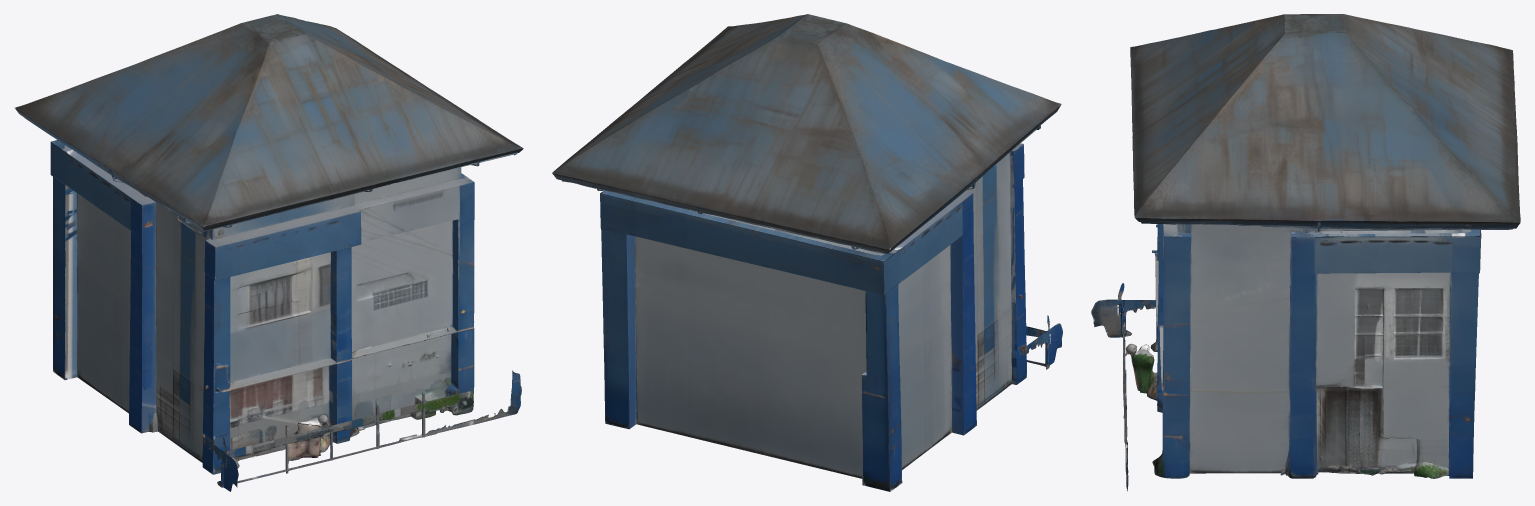
File: base_basic_pbr.fbx
3 views of the same model, side by side, from view 1: azimuth 30°, elevation 25°; view 2: azimuth 150°, elevation 25°; view 3: azimuth 270°, elevation 25° (orthographic). The views are drawn at different scales.
Visible parts, largest first — view 1: model; view 2: model; view 3: model.
Boxes of the visible parts, box(x1,y1,x2,y2) form: model: box(14, 14, 523, 491); model: box(552, 14, 1062, 491); model: box(1091, 14, 1520, 491).
Size of the model in its own units: 183 by 190 by 190.
1 material, 1 textured.
